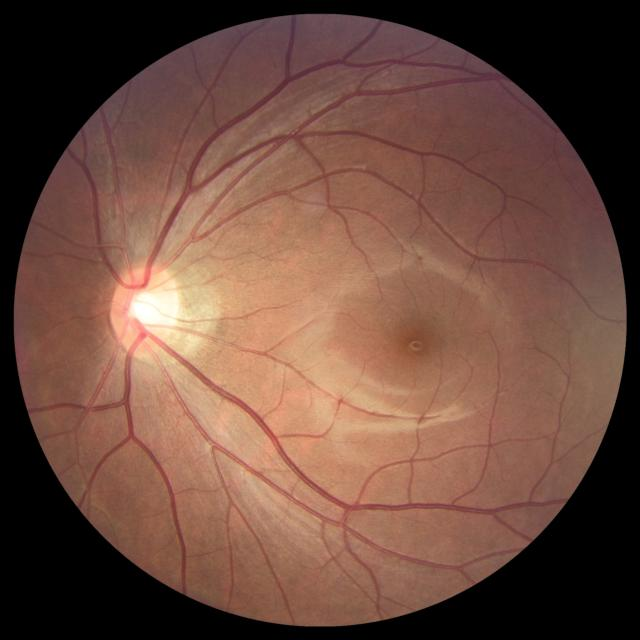OC: (126, 286, 164, 328)
OD: (111, 266, 179, 358)
